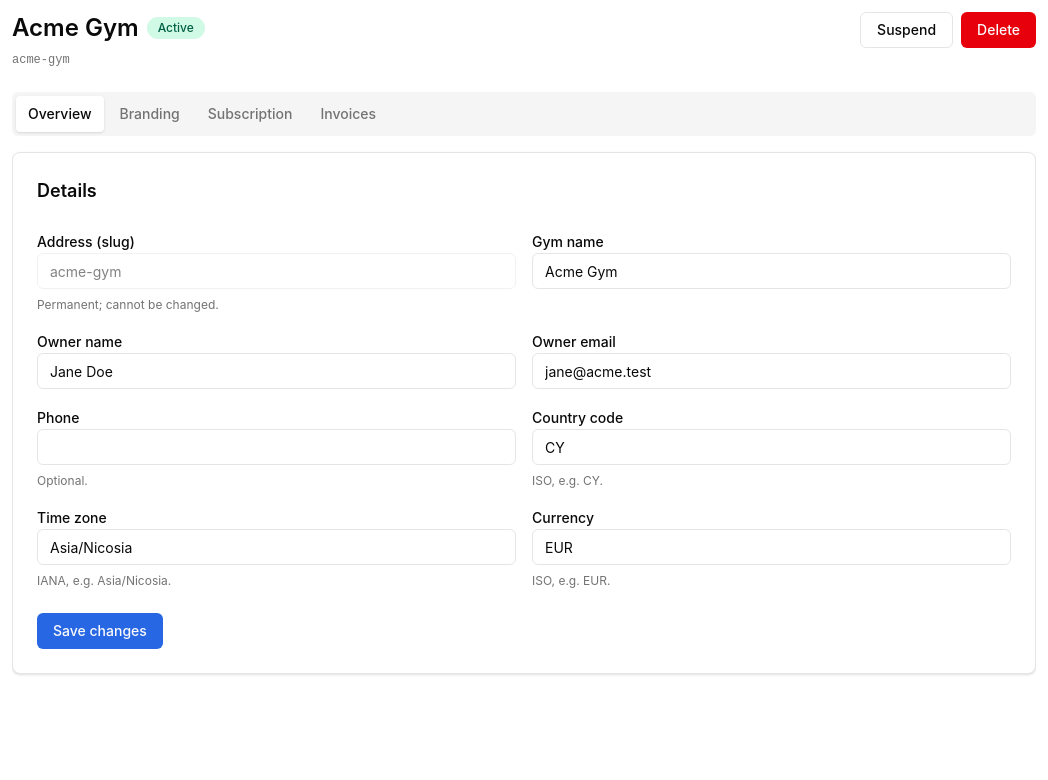
Test: GymDetailPage — Subscription tab wiring › renders the "Assign plan" empty state on a 404, not an error panel
Expected: the text "Acme Gym" is shown, [12,13,139,42]
What coordinates should you click on to do the following:
click the tab "Subscription"
I would click on:
 (250, 114)
Its box is [196,96,304,132].
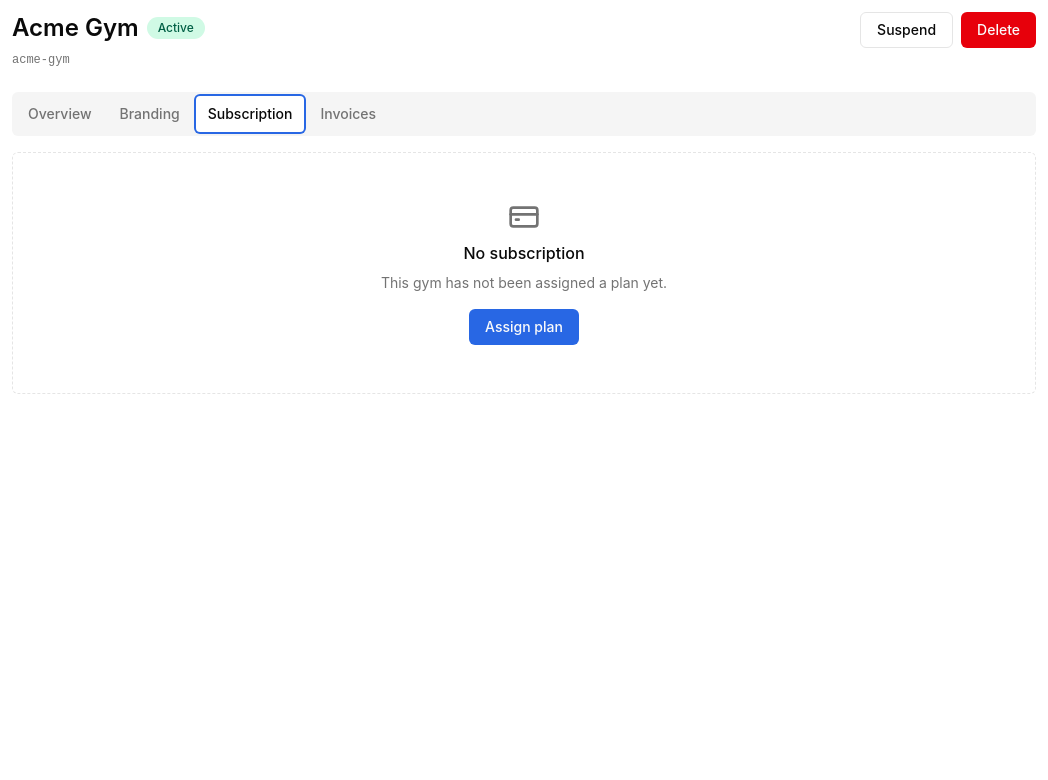
Expected: the text "No subscription" is shown, [464,241,584,265]
Expected: the button "Assign plan" is shown, [469,309,579,345]
